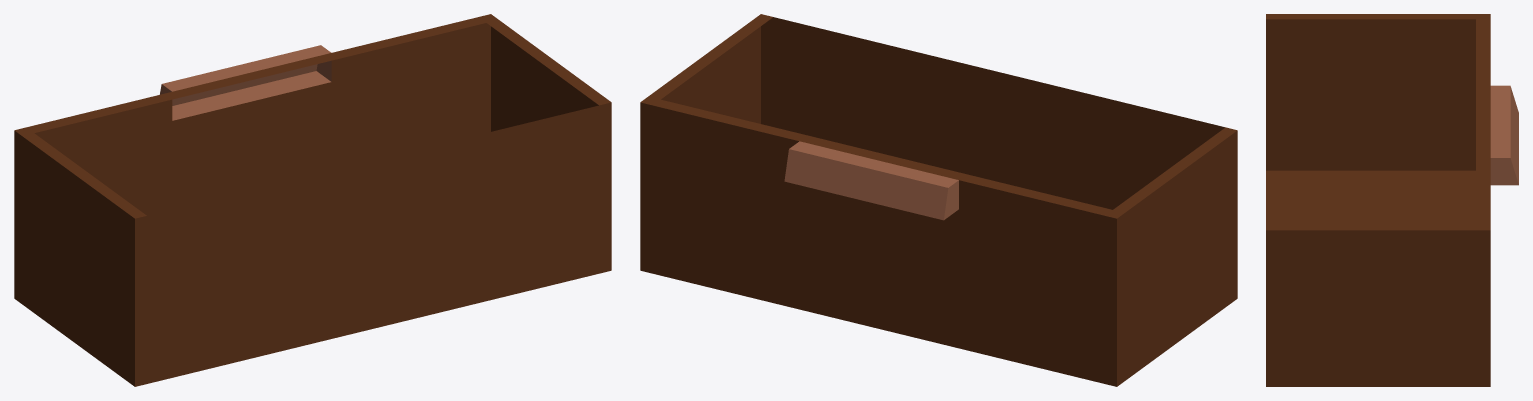
The model's file is animatedDrawer2C2.obj.
The picture shows the model from 3 angles, left to right: view 1: azimuth 30°, elevation 25°; view 2: azimuth 150°, elevation 25°; view 3: azimuth 270°, elevation 25°; orthographic projection. The views are drawn at different scales.
Visible parts, largest first — view 1: Cubo.007_Cubo.010; view 2: Cubo.007_Cubo.010; view 3: Cubo.007_Cubo.010.
Part boxes in pixels (bbox=[...]): Cubo.007_Cubo.010: bbox=[14, 14, 611, 386]; Cubo.007_Cubo.010: bbox=[640, 14, 1237, 386]; Cubo.007_Cubo.010: bbox=[1266, 14, 1518, 386].
Size of the model in its own units: 28.36 by 9.57 by 14.01.
Materials: 2 (2 with a texture image).
